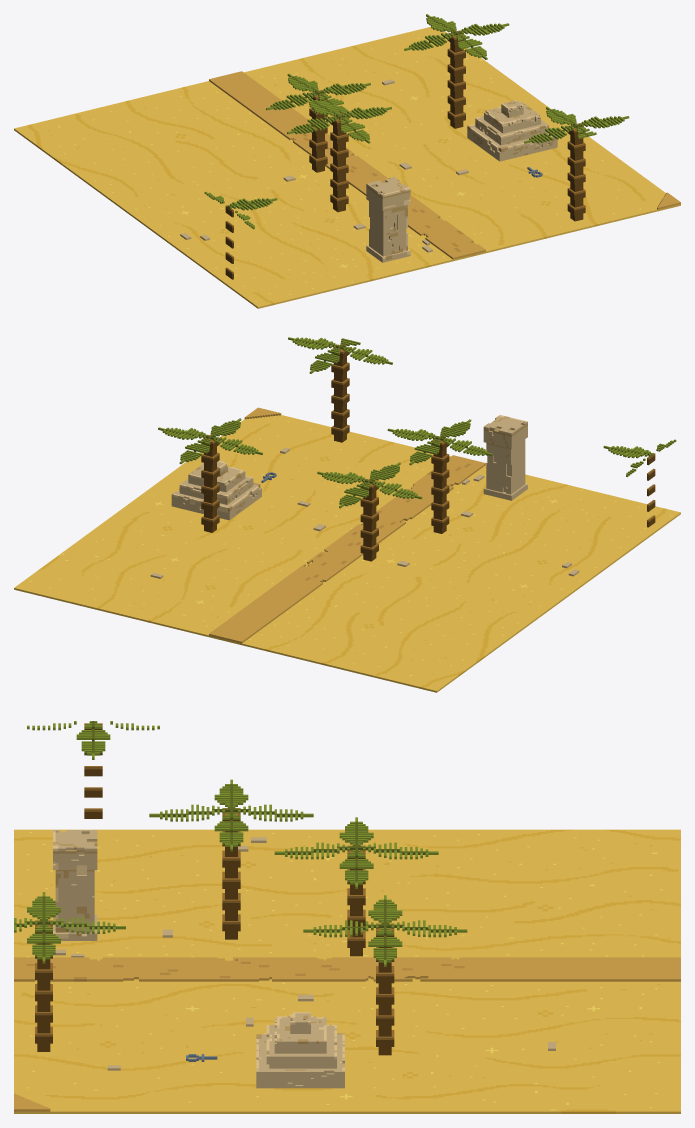
File: shadow-6.obj
The picture shows the model from 3 angles, top to bottom: view 1: azimuth 30°, elevation 25°; view 2: azimuth 150°, elevation 25°; view 3: azimuth 270°, elevation 25°; orthographic projection. The views are drawn at different scales.
Bounding box in the file's own units: 25.6 × 5.5 × 25.6.
1 material, 1 textured.
